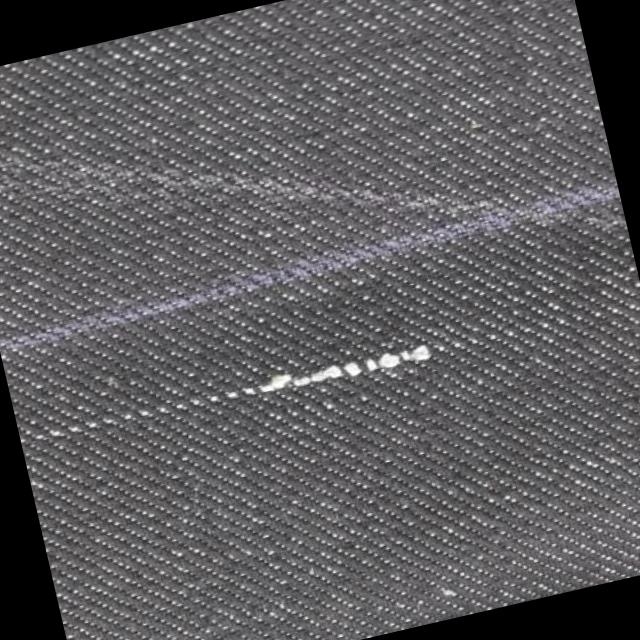Stain: (0, 52, 476, 314), (0, 173, 624, 360)
Warp_Weft: (16, 332, 438, 463)
